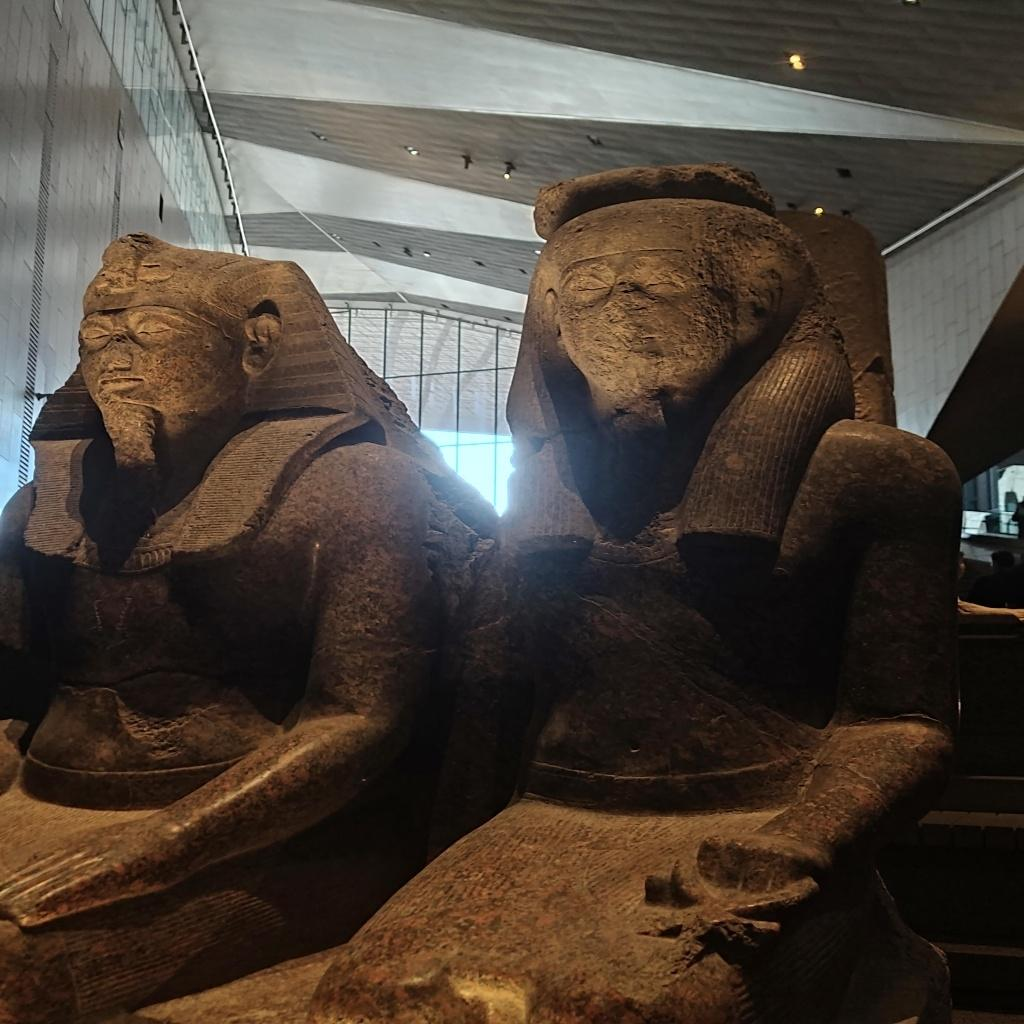Seated Statue of Ramesses II and God Ptah: (17, 144, 997, 1017)
